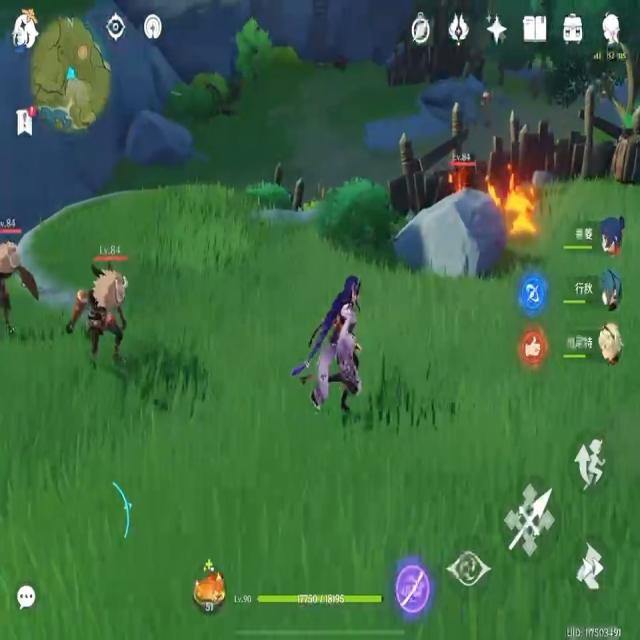genshin-hilichurls: (75, 242, 131, 361), (0, 217, 24, 346), (449, 163, 476, 205)
